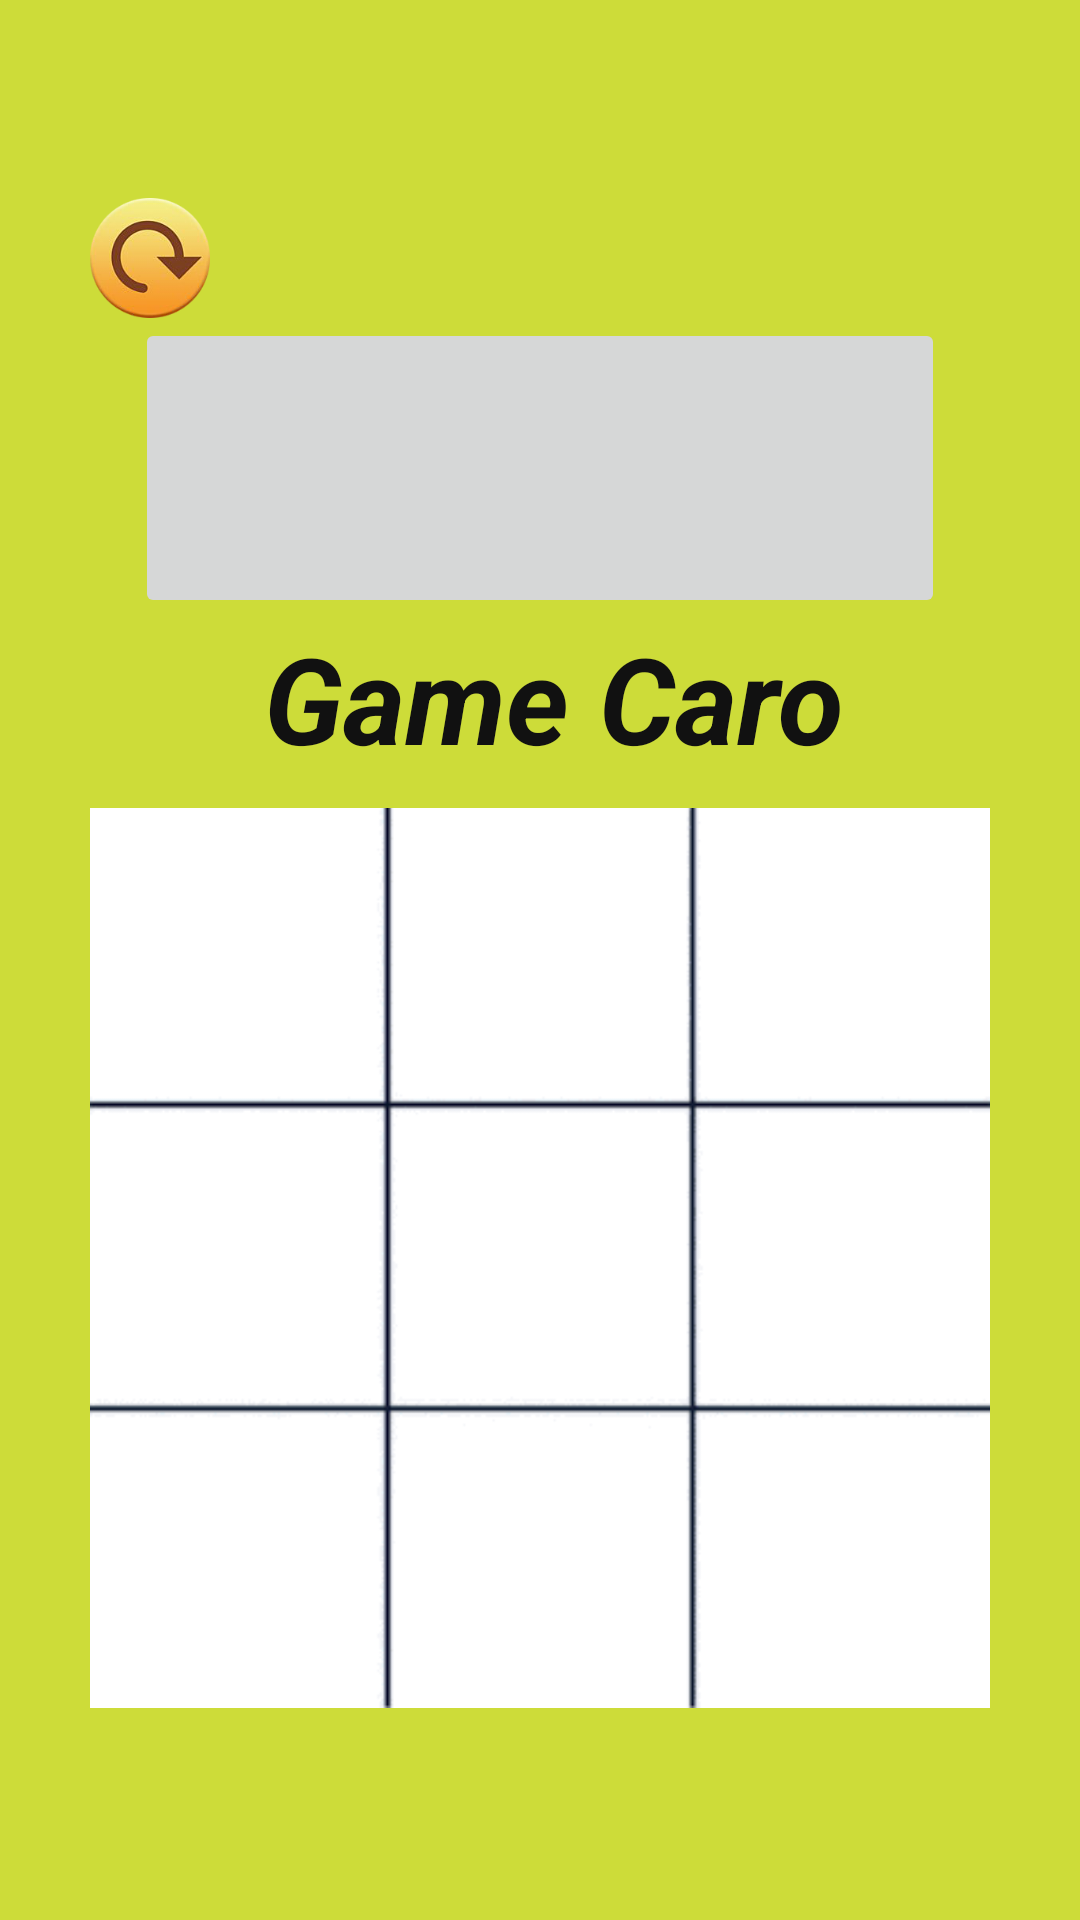

Screen size 1080 × 1920. Icon name, then its center in pixels as (x,y):
reset: (150,258)
